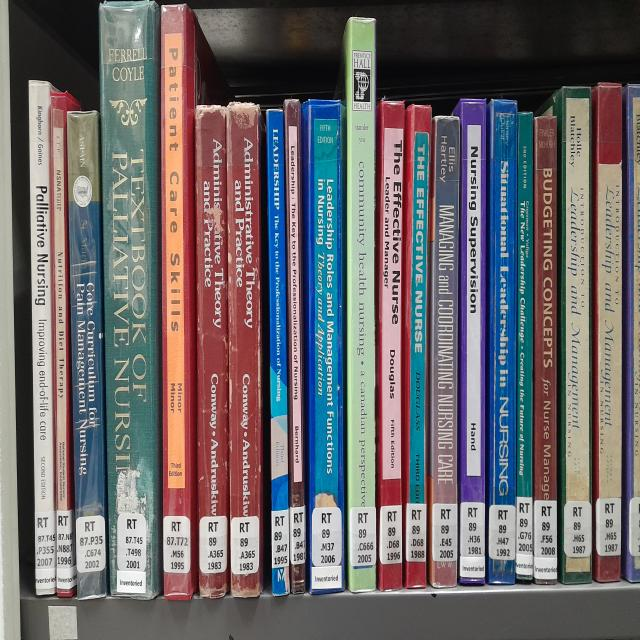book: (99, 0, 160, 599), (67, 111, 109, 598), (162, 7, 192, 599), (309, 99, 343, 590), (560, 83, 592, 582), (196, 105, 228, 594), (51, 92, 81, 597), (29, 80, 58, 594), (228, 105, 258, 593), (350, 18, 375, 591), (489, 97, 515, 586), (462, 100, 487, 584), (597, 83, 621, 581), (266, 110, 290, 594), (284, 100, 307, 592), (434, 119, 458, 586), (382, 101, 404, 590), (535, 119, 558, 581), (409, 104, 428, 586), (519, 113, 534, 579), (626, 84, 640, 583)
